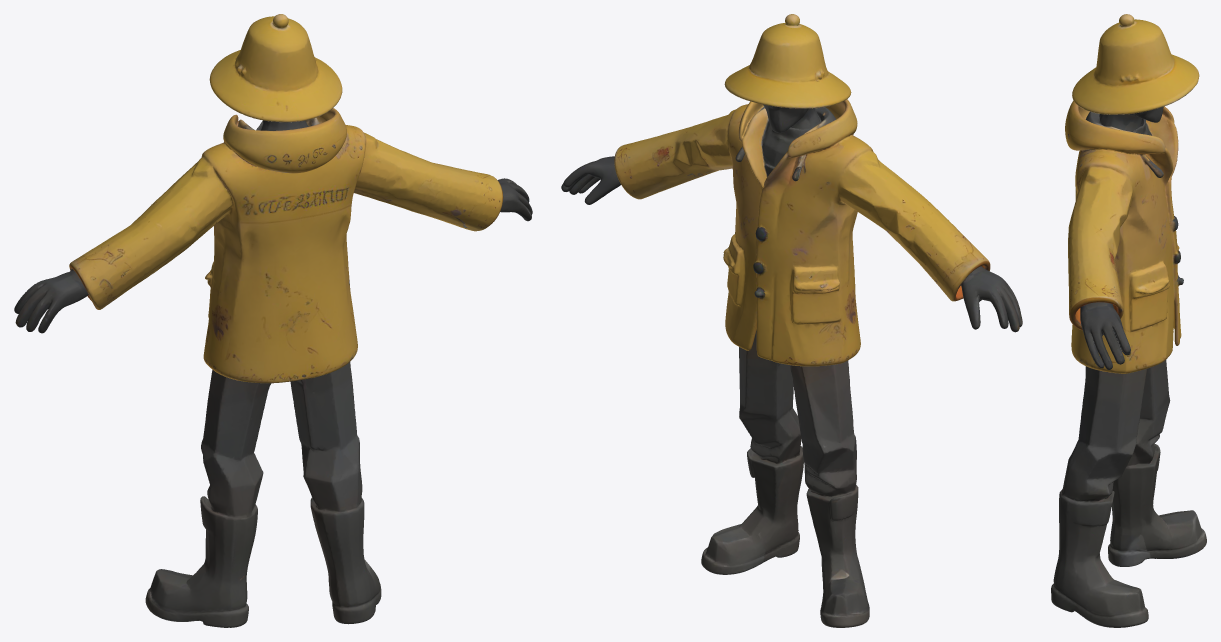
Rendered from keeper.glb.
3 renders of one model, left to right at view 1: azimuth 30°, elevation 25°; view 2: azimuth 150°, elevation 25°; view 3: azimuth 270°, elevation 25°, orthographic. The views are drawn at different scales.
Visible parts, largest first — view 1: tripo_node_f773b0cb-30f9-41d5-ac51-308ce6d907d3; view 2: tripo_node_f773b0cb-30f9-41d5-ac51-308ce6d907d3; view 3: tripo_node_f773b0cb-30f9-41d5-ac51-308ce6d907d3.
Part boxes in pixels (<box>): tripo_node_f773b0cb-30f9-41d5-ac51-308ce6d907d3: <box>14,14,532,627</box>; tripo_node_f773b0cb-30f9-41d5-ac51-308ce6d907d3: <box>561,14,1022,627</box>; tripo_node_f773b0cb-30f9-41d5-ac51-308ce6d907d3: <box>1051,14,1206,627</box>.
Size of the model in its own units: 1.56 by 1.8 by 0.4438.
Materials: 1 (1 with a texture image).
